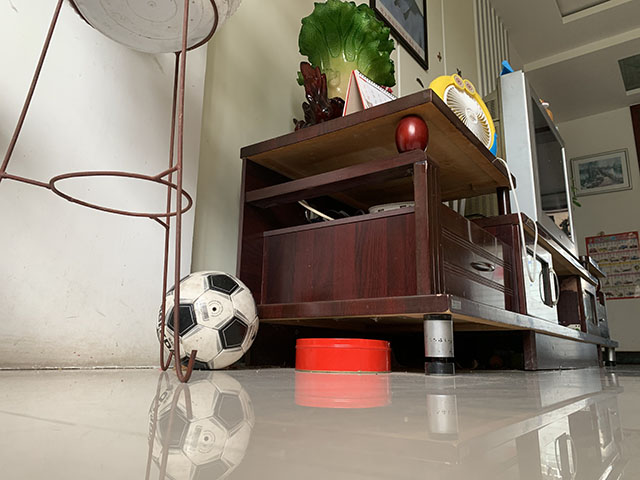cabinet: (235, 86, 620, 376)
